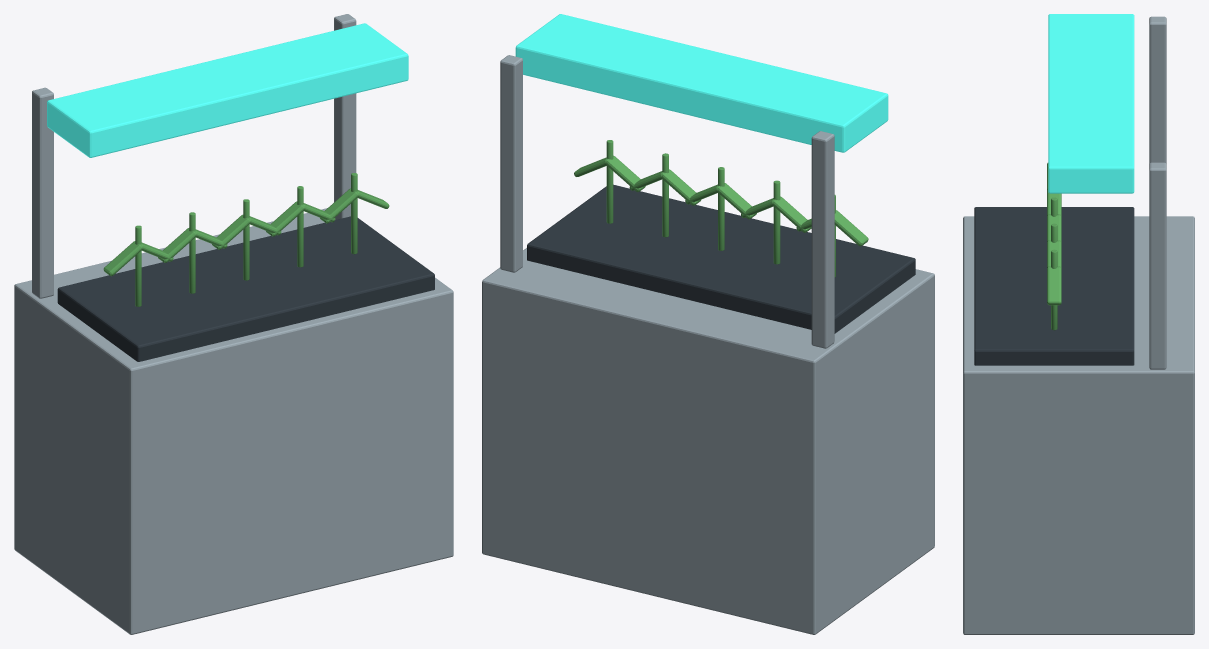
File: hydroponics.glb
3 views of the same model, side by side, from view 1: azimuth 30°, elevation 25°; view 2: azimuth 150°, elevation 25°; view 3: azimuth 270°, elevation 25° (orthographic). The views are drawn at different scales.
Visible parts, largest first — view 1: Grow module, Growth tray, Grow light, Support, Support.001; view 2: Grow module, Growth tray, Grow light, Support, Support.001; view 3: Grow module, Growth tray, Grow light, Support.001, Support, Leaf.009.
Boxes of the visible parts, x1=… form: Grow module: x1=14, y1=208, x2=453, y2=634; Growth tray: x1=57, y1=216, x2=434, y2=361; Grow light: x1=47, y1=23, x2=408, y2=157; Support: x1=32, y1=87, x2=53, y2=298; Support.001: x1=334, y1=14, x2=356, y2=219; Grow module: x1=482, y1=248, x2=934, y2=634; Growth tray: x1=527, y1=184, x2=915, y2=333; Grow light: x1=515, y1=14, x2=888, y2=152; Support: x1=811, y1=131, x2=834, y2=348; Support.001: x1=500, y1=55, x2=522, y2=272; Grow module: x1=963, y1=216, x2=1194, y2=634; Growth tray: x1=974, y1=207, x2=1134, y2=365; Grow light: x1=1048, y1=14, x2=1134, y2=193; Support.001: x1=1149, y1=162, x2=1166, y2=369; Support: x1=1149, y1=16, x2=1166, y2=163; Leaf.009: x1=1047, y1=267, x2=1061, y2=305.
Size of the model in its own units: 1.5 by 2.09 by 0.94.
